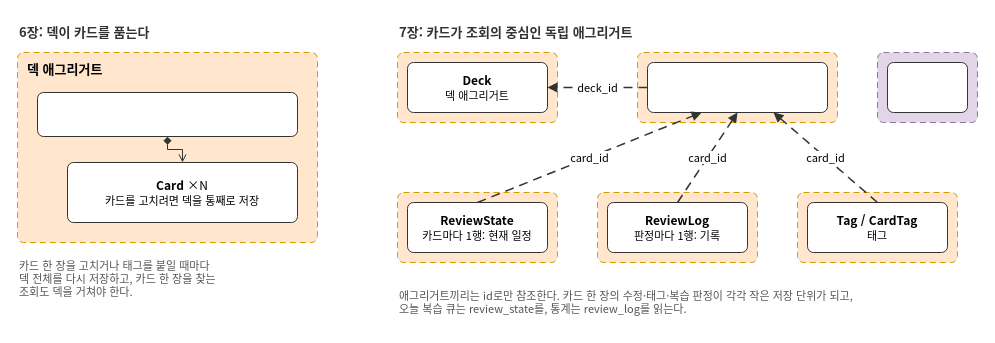
Some shapes in this 995 by 343 pixel diagram are drawn without their labels. Here are the shapes that lost their labels. From the top down, the centre of each, then its label:
At (737,87): "Card 카드 애그리거트".
At (927,87): "SmartDeck 조건만 저장".
At (167,114): "Deck (루트)".
